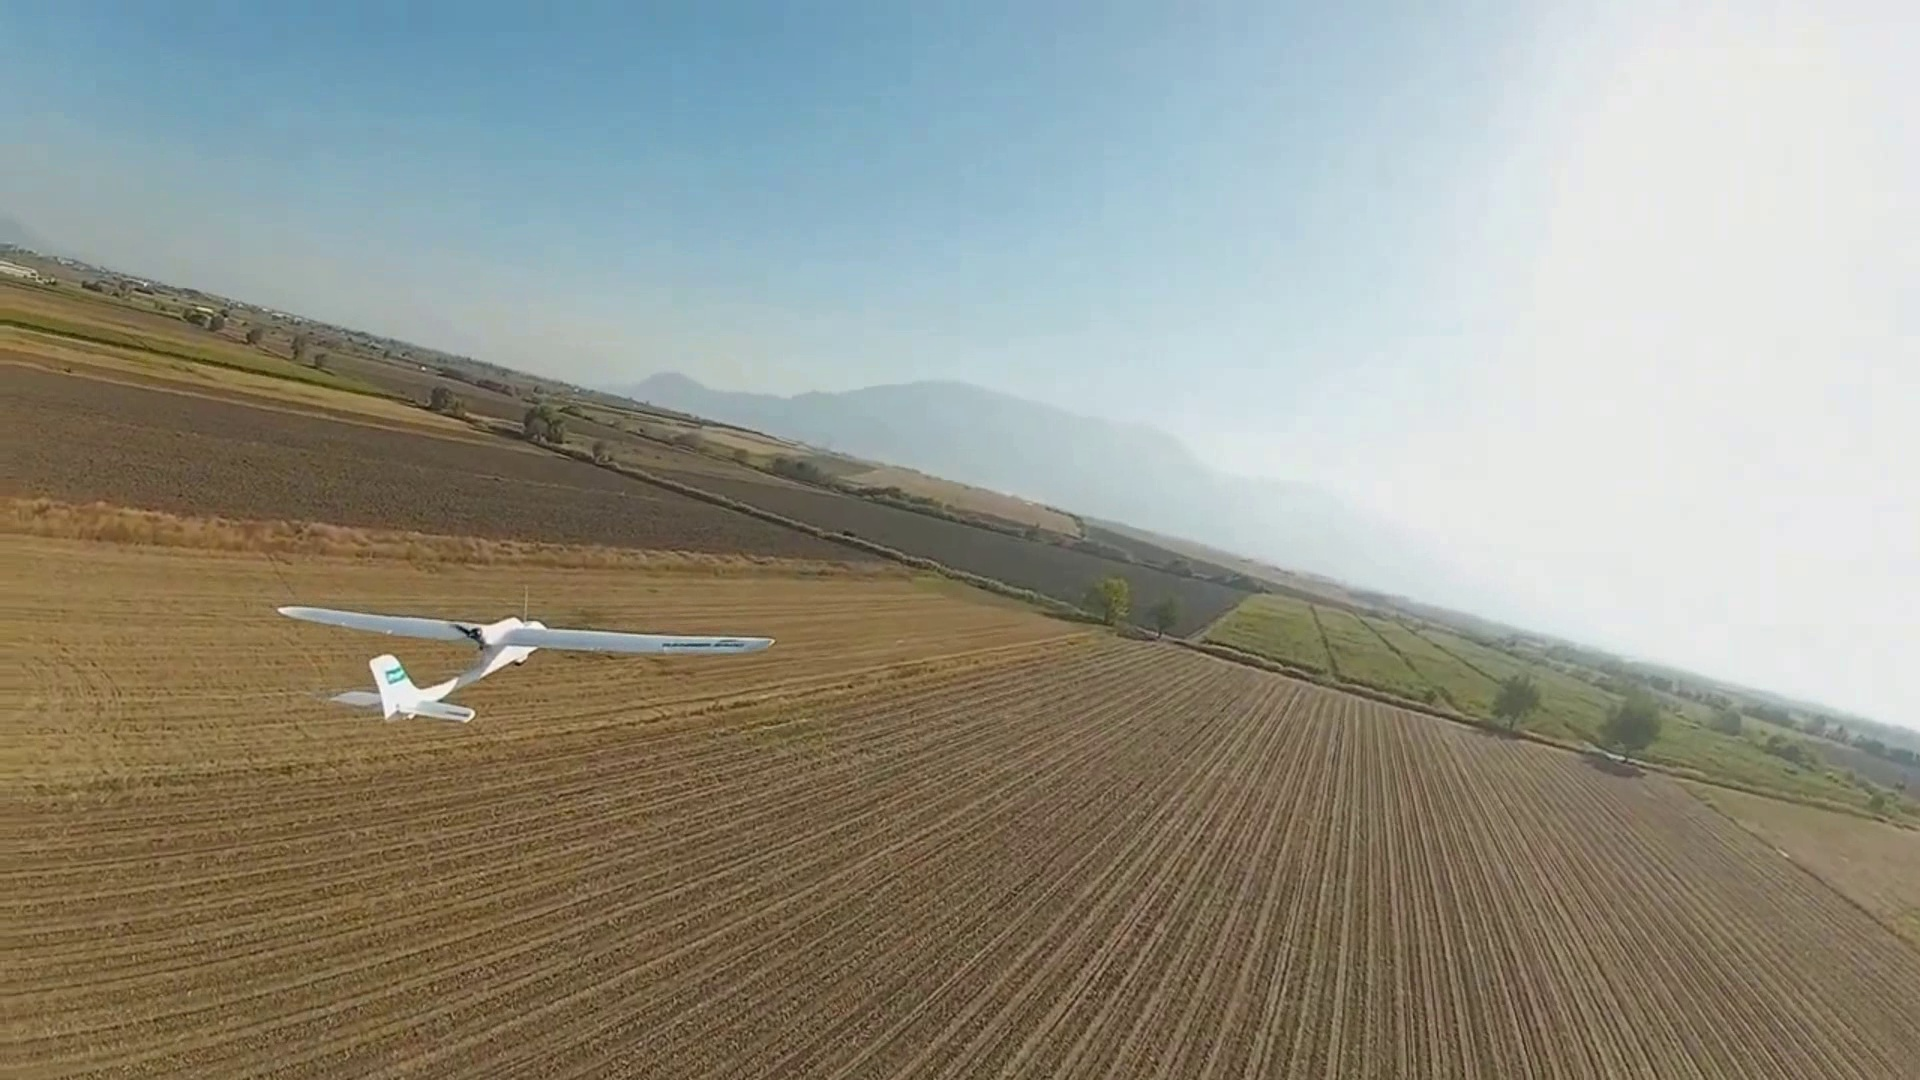airplane: (272, 604, 772, 727)
